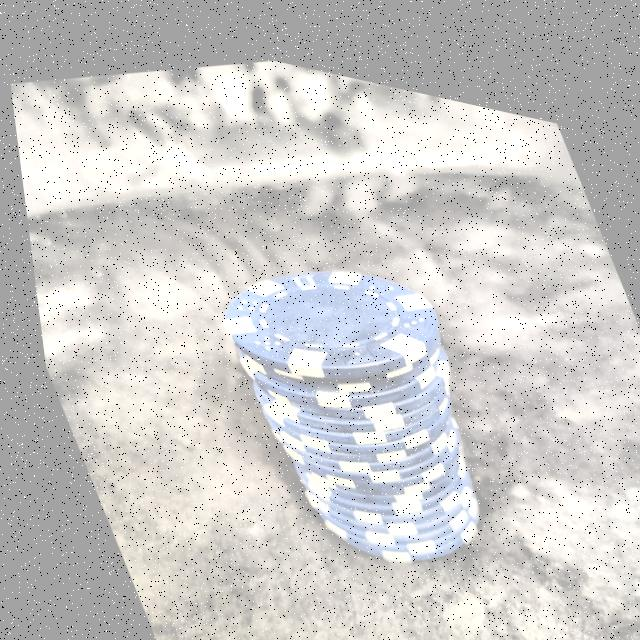Chip: (162, 189, 542, 605)
